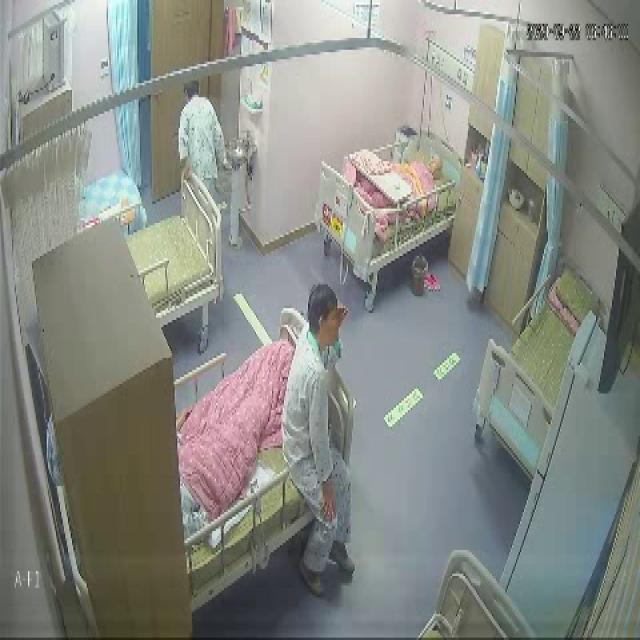bed: (174, 315, 350, 580), (474, 260, 590, 480), (318, 131, 458, 279), (130, 168, 224, 324)
patient: (283, 284, 350, 592), (176, 78, 229, 186)
sit: (282, 284, 356, 590)
